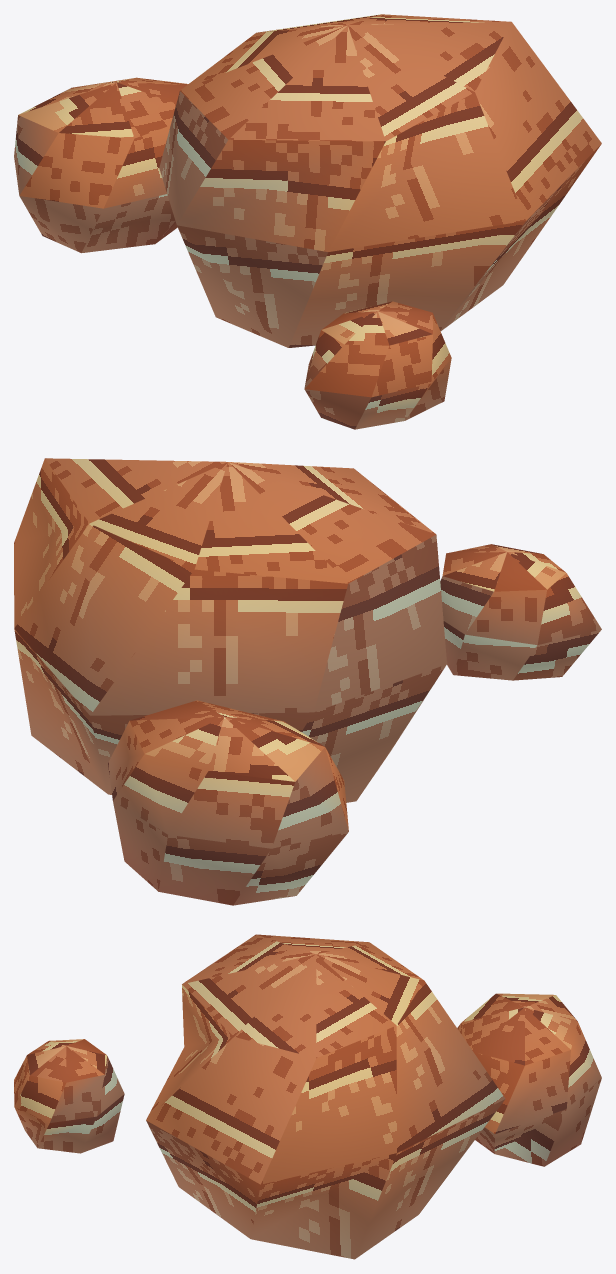
File: wland.boulder.glb
3 renders of one model, top to bottom at view 1: azimuth 30°, elevation 25°; view 2: azimuth 150°, elevation 25°; view 3: azimuth 270°, elevation 25°, orthographic. The views are drawn at different scales.
Visible parts, largest first — view 1: kit_rocks; view 2: kit_rocks; view 3: kit_rocks.
Part boxes in pixels (x1=…): kit_rocks: x1=14, y1=14, x2=601, y2=429; kit_rocks: x1=14, y1=458, x2=601, y2=905; kit_rocks: x1=14, y1=934, x2=601, y2=1259.
Size of the model in its own units: 2.97 by 1.72 by 3.85.
1 material, 1 textured.
